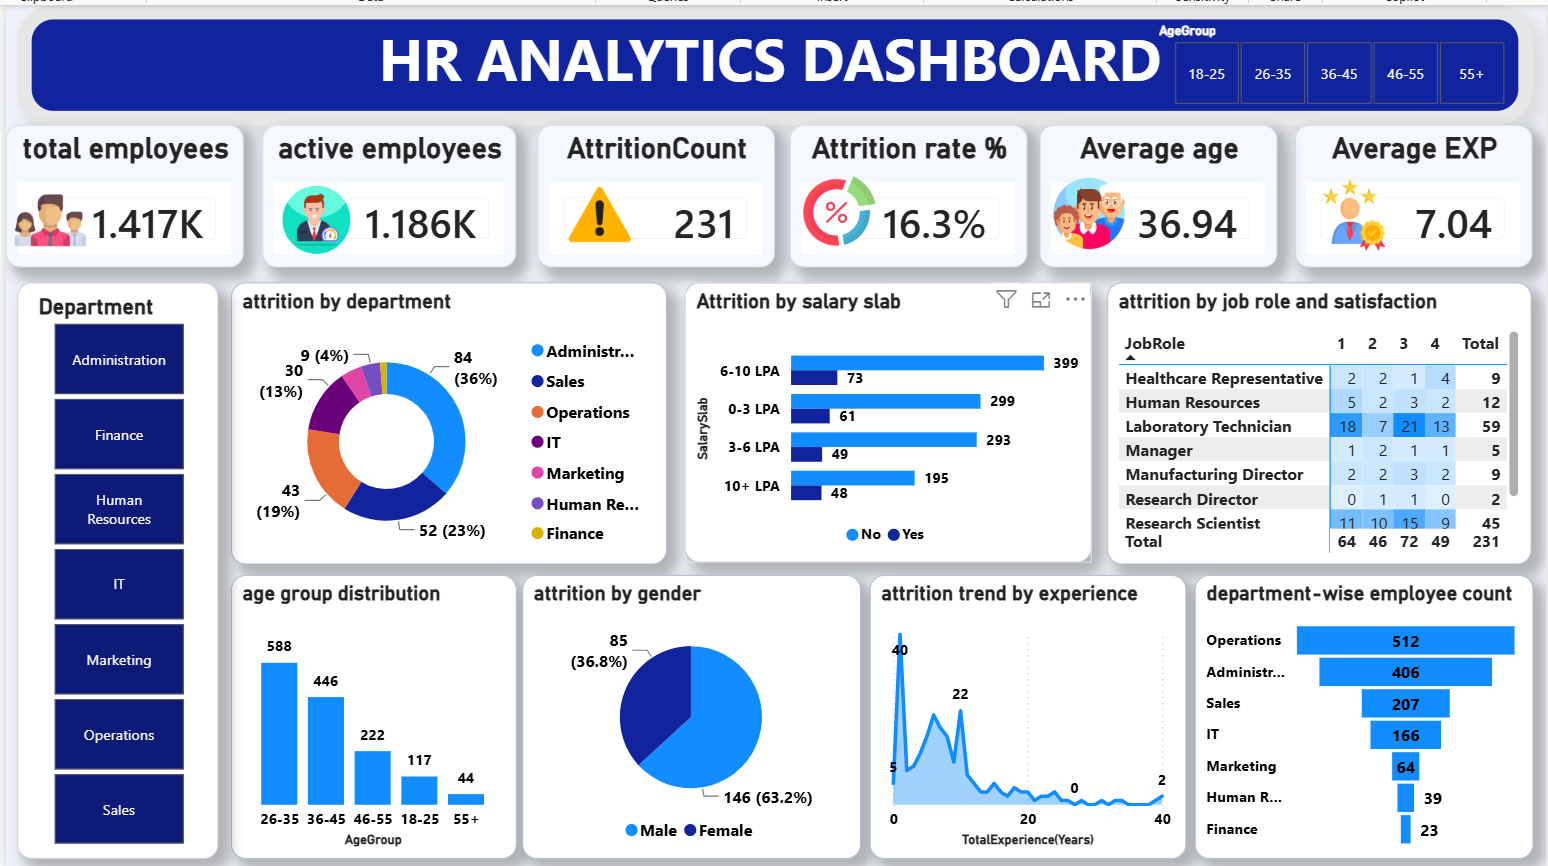

Layout of this report page (visuals, bound fields, positions):
{"tool":"powerbi","page":{"name":"Page 1","canvas":[1280,720],"ordinal":0},"visuals":[{"type":"textbox","box":[9.6,0,1259.7,100],"z":0},{"type":"image","box":[35.7,16.5,215.4,65.9],"z":1},{"type":"cardVisual","title":"total employees","fields":{"Data":["CountNonNull(HR_Analytics-4.EmpID)"]},"box":[0,100.2,197.6,118],"z":2},{"type":"cardVisual","title":"Average EXP","fields":{"Data":["Avg(HR_Analytics-4.YearsatCompany)"]},"box":[1071.7,100.2,197.6,118],"z":3},{"type":"cardVisual","title":"AttritionCount","fields":{"Data":["Sum(HR_Analytics-4.AttritionCount)"]},"box":[441.9,100.2,197.6,118],"z":4},{"type":"cardVisual","title":"Attrition rate %","fields":{"Data":["HR_Analytics-4.Attrition count %"]},"box":[651.8,100.2,197.6,118],"z":5},{"type":"cardVisual","title":"Average age ","fields":{"Data":["Avg(HR_Analytics-4.Age)"]},"box":[859,100.2,197.6,118],"z":6},{"type":"cardVisual","title":"active employees","fields":{"Data":["CountNonNull(HR_Analytics-4.EmployeeCount)"]},"box":[212.7,100.2,211.3,118],"z":7},{"type":"image","box":[6.9,148.2,59,60.4],"z":12},{"type":"image","box":[208.6,148.2,98.8,60.4],"z":13},{"type":"image","box":[465.2,141.3,56.3,67.2],"z":14},{"type":"image","box":[871.4,141.3,59,64.5],"z":15},{"type":"image","box":[1071.7,144.1,98.8,60.4],"z":16},{"type":"image","box":[651.8,141.3,82.3,60.4],"z":17},{"type":"donutChart","title":"attrition by department ","fields":{"Category":["HR_Analytics-4.Department"],"Y":["Sum(HR_Analytics-4.AttritionCount)"]},"box":[186.6,230.5,362.3,234.6],"z":18},{"type":"clusteredBarChart","title":"Attrition by salary slab","fields":{"Category":["HR_Analytics-4.SalarySlab"],"Y":["CountNonNull(HR_Analytics-4.EmpID)"],"Series":["HR_Analytics-4.Attrition"]},"box":[564,230.5,338,233],"z":19},{"type":"pivotTable","title":"attrition by job role and satisfaction ","fields":{"Rows":["HR_Analytics-4.JobRole"],"Values":["Sum(HR_Analytics-4.AttritionCount)"],"Columns":["HR_Analytics-4.JobSatisfaction"]},"box":[915.3,230.5,352.7,234.6],"z":20},{"type":"columnChart","title":"age group distribution","fields":{"Category":["HR_Analytics-4.AgeGroup"],"Y":["Sum(HR_Analytics-4.EmployeeCount)"]},"box":[186.6,473.4,237.4,236],"z":21},{"type":"pieChart","title":"attrition by gender","fields":{"Category":["HR_Analytics-4.Gender"],"Y":["Sum(HR_Analytics-4.AttritionCount)"]},"box":[429.5,473.4,281.3,236],"z":22},{"type":"areaChart","title":"attrition trend by experience ","fields":{"Category":["HR_Analytics-4.TotalExperience(Years)"],"Y2":["Sum(HR_Analytics-4.AttritionCount)"]},"box":[717.7,473.4,263.5,236],"z":23},{"type":"funnel","title":"department-wise employee count","fields":{"Category":["HR_Analytics-4.Department"],"Y":["CountNonNull(HR_Analytics-4.EmpID)"]},"box":[988,473.4,281.3,236],"z":24},{"type":"slicer","fields":{"Values":["HR_Analytics-4.Department"]},"box":[9.6,230.5,167.4,478.9],"z":25},{"type":"slicer","fields":{"Values":["HR_Analytics-4.AgeGroup"]},"box":[945.5,9.6,323.8,79.6],"z":26}]}

Visuals, with their boxes on the page's 1280x720 design canvas (x1, y1, x2, y2). These are canvas units, not pixel positions in the 1548x866 screenshot, which may show the page scaled, cropped or inside an application window:
textbox: BBox(10, 0, 1269, 100)
image: BBox(36, 16, 251, 82)
"total employees" cardVisual: BBox(0, 100, 198, 218)
"Average EXP" cardVisual: BBox(1072, 100, 1269, 218)
"AttritionCount" cardVisual: BBox(442, 100, 640, 218)
"Attrition rate %" cardVisual: BBox(652, 100, 849, 218)
"Average age " cardVisual: BBox(859, 100, 1057, 218)
"active employees" cardVisual: BBox(213, 100, 424, 218)
image: BBox(7, 148, 66, 209)
image: BBox(209, 148, 307, 209)
image: BBox(465, 141, 522, 208)
image: BBox(871, 141, 930, 206)
image: BBox(1072, 144, 1170, 204)
image: BBox(652, 141, 734, 202)
"attrition by department " donutChart: BBox(187, 230, 549, 465)
"Attrition by salary slab" clusteredBarChart: BBox(564, 230, 902, 464)
"attrition by job role and satisfaction " pivotTable: BBox(915, 230, 1268, 465)
"age group distribution" columnChart: BBox(187, 473, 424, 709)
"attrition by gender" pieChart: BBox(430, 473, 711, 709)
"attrition trend by experience " areaChart: BBox(718, 473, 981, 709)
"department-wise employee count" funnel: BBox(988, 473, 1269, 709)
slicer - HR_Analytics-4.Department: BBox(10, 230, 177, 709)
slicer - HR_Analytics-4.AgeGroup: BBox(946, 10, 1269, 89)
